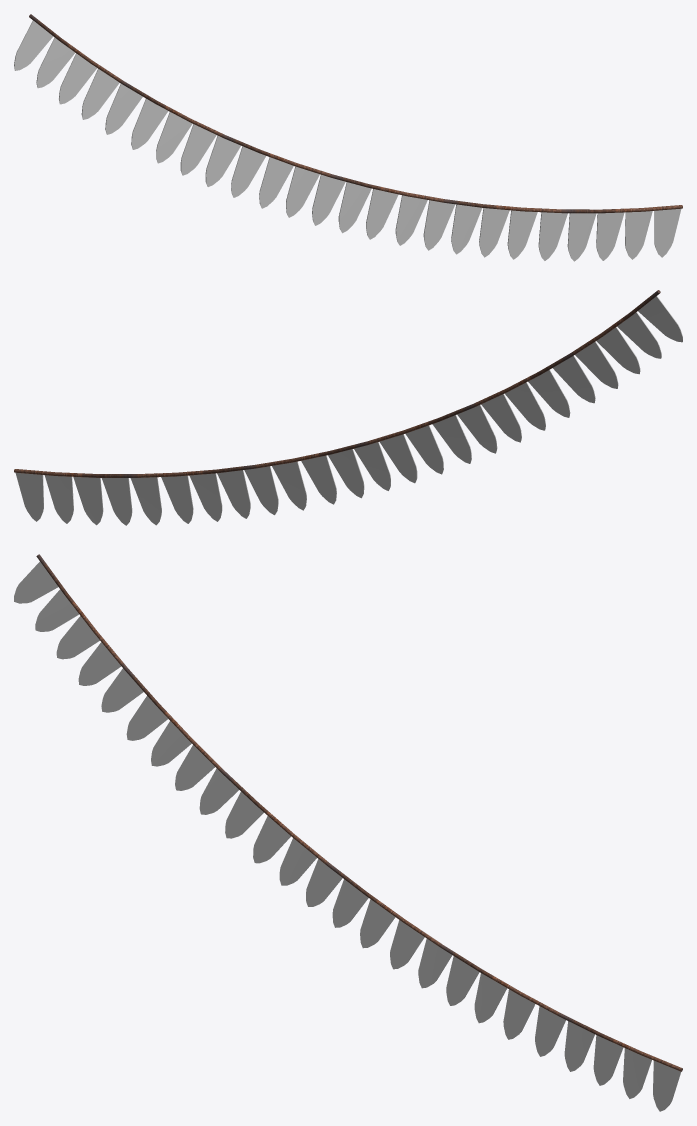
Rendered from lenta2.FBX.
3 renders of one model, top to bottom at view 1: azimuth 30°, elevation 25°; view 2: azimuth 150°, elevation 25°; view 3: azimuth 330°, elevation 25°, orthographic. The views are drawn at different scales.
Visible parts, largest first — view 1: Box004, Box003, Box005, Box002, Box001, Cylinder001; view 2: Box001, Box002, Box003, Box004, Box005, Cylinder001; view 3: Box005, Box004, Box003, Box002, Box001, Cylinder001.
Part boxes in pixels (x1,y1,x2,y2): Box004: [131, 98, 265, 197]; Box003: [259, 157, 398, 239]; Box005: [14, 20, 142, 134]; Box002: [395, 195, 537, 259]; Box001: [538, 208, 681, 261]; Cylinder001: [29, 14, 682, 213]; Box001: [15, 472, 161, 525]; Box002: [161, 461, 306, 523]; Box003: [301, 425, 443, 504]; Box004: [432, 369, 570, 463]; Box005: [553, 296, 682, 403]; Cylinder001: [14, 290, 660, 477]; Box005: [14, 561, 143, 712]; Box004: [126, 696, 263, 838]; Box003: [253, 816, 395, 948]; Box002: [390, 920, 535, 1039]; Box001: [535, 1006, 680, 1111]; Cylinder001: [36, 554, 682, 1071].
Size of the model in its own units: 401 by 224 by 13.3.
